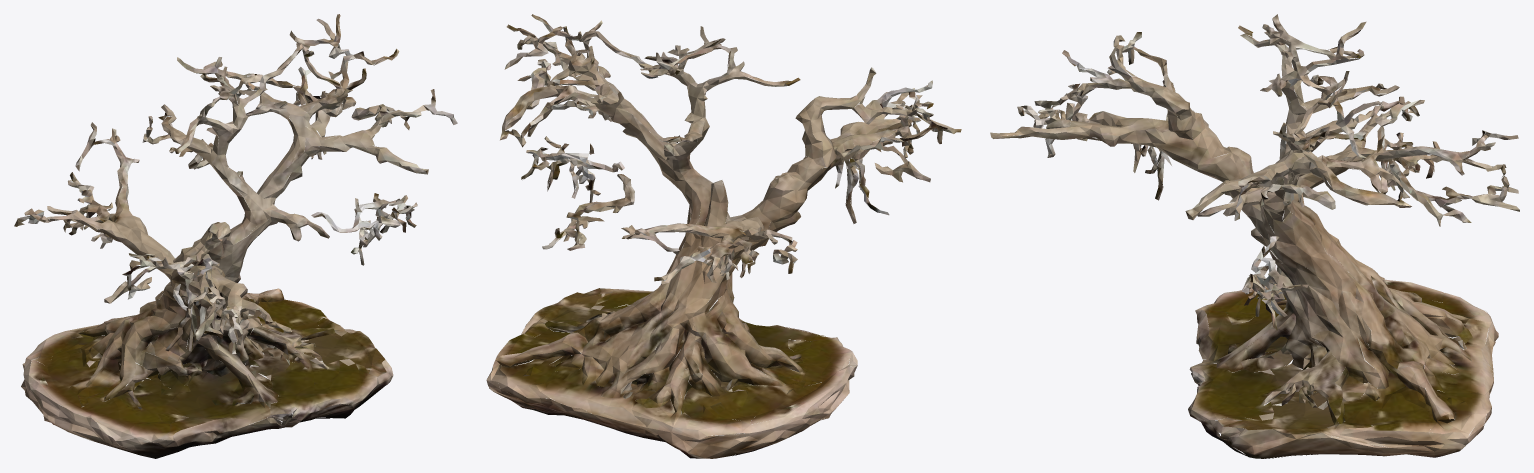
Rendered from wt-bog-deadwood.glb.
3 views of the same model, side by side, from view 1: azimuth 30°, elevation 25°; view 2: azimuth 150°, elevation 25°; view 3: azimuth 270°, elevation 25° (orthographic). The views are drawn at different scales.
Visible parts, largest first — view 1: tmpqtzari49.ply; view 2: tmpqtzari49.ply; view 3: tmpqtzari49.ply.
Part boxes in pixels (x1,y1,x2,y2): tmpqtzari49.ply: (14, 14, 457, 458); tmpqtzari49.ply: (486, 14, 961, 458); tmpqtzari49.ply: (990, 14, 1519, 458).
Size of the model in its own units: 7.8 by 6.76 by 8.56.
1 material, 1 textured.
